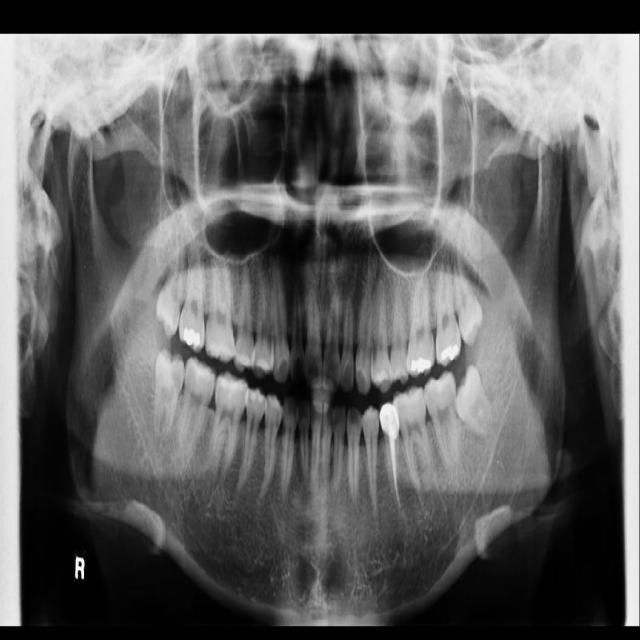3M ESPE Implant: (153, 235, 187, 338)
52: (406, 327, 436, 377), (178, 304, 206, 353), (435, 317, 462, 367), (378, 402, 402, 444)
73: (384, 437, 402, 509), (587, 570, 597, 586)
BioHorizons Implant: (434, 262, 462, 367)
BioLife Implant: (449, 252, 487, 347)
Biomet 3i Implant: (442, 361, 501, 442)
Blue Sky Bio Implant: (423, 369, 460, 469)
Caries: (174, 244, 206, 354)
Implant: (175, 356, 219, 461)
Keystone Dental Implant: (151, 350, 186, 440)
